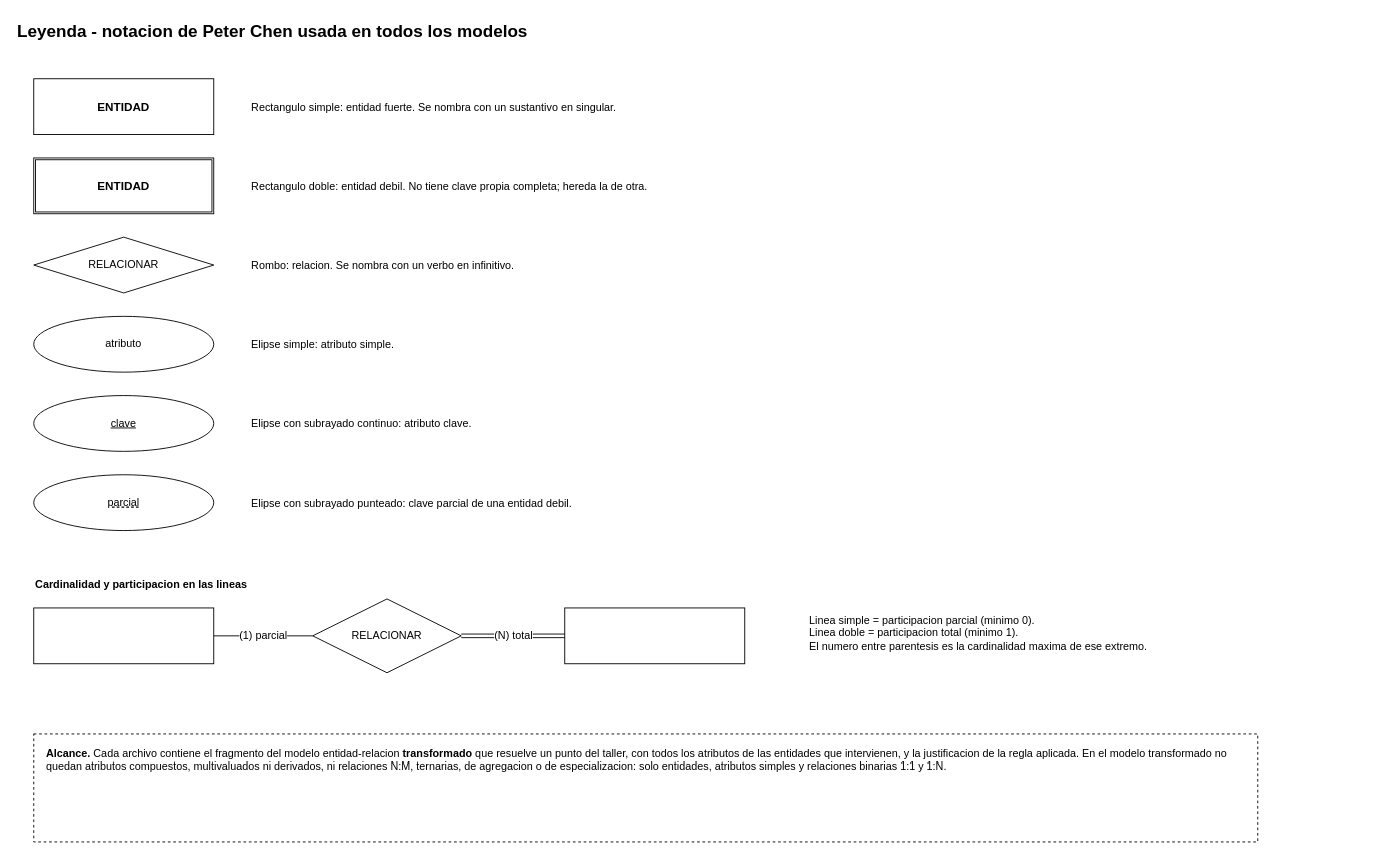
The diagram is 1381 pixels wide and 858 high, and some of its shapes have lost their labels. The centre of each missing label's shape, as x and y in pixels:
"ENTIDAD_A" belongs at point (123, 635).
"ENTIDAD_B" belongs at point (654, 635).
